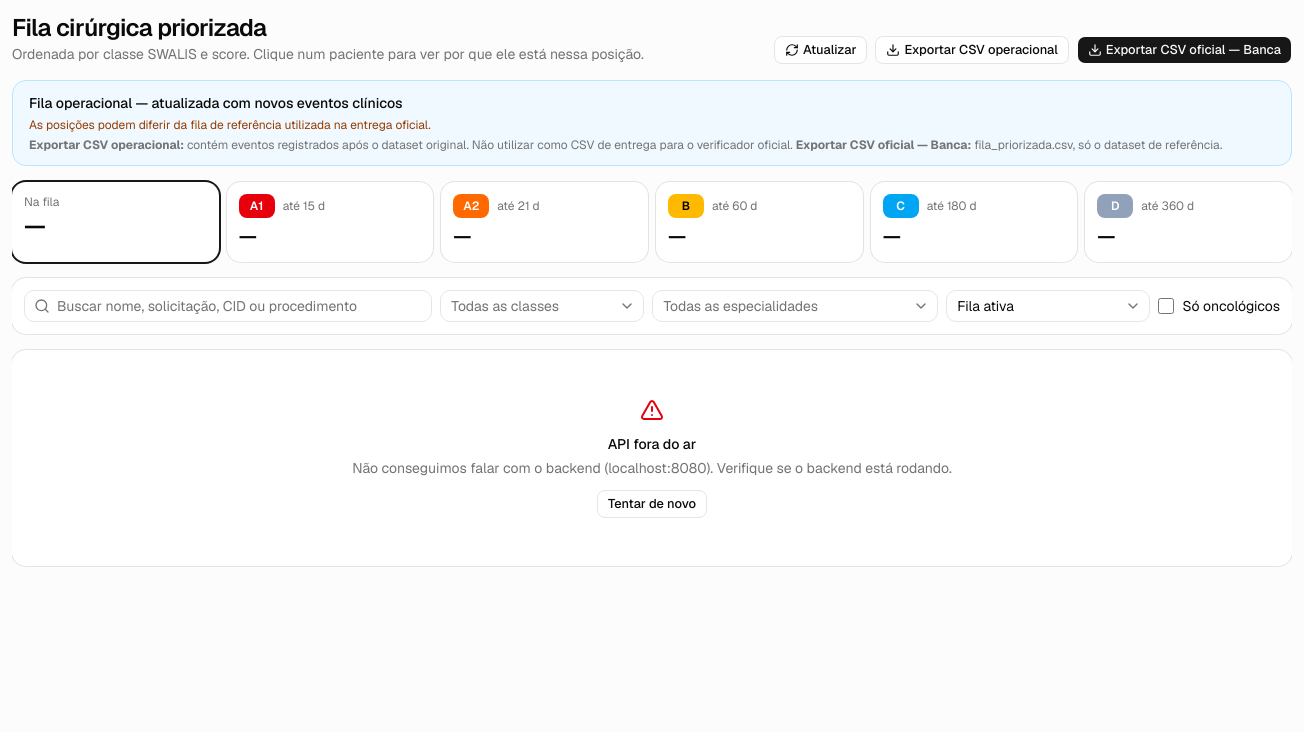
Test case: TelaFila › API fora do ar mostra o aviso e tenta de novo ao clicar
Check: the text "API fora do ar" is shown, box [608,435,696,453]
Click the button "Tentar de novo" at x=652, y=504, box [597,490,707,518]
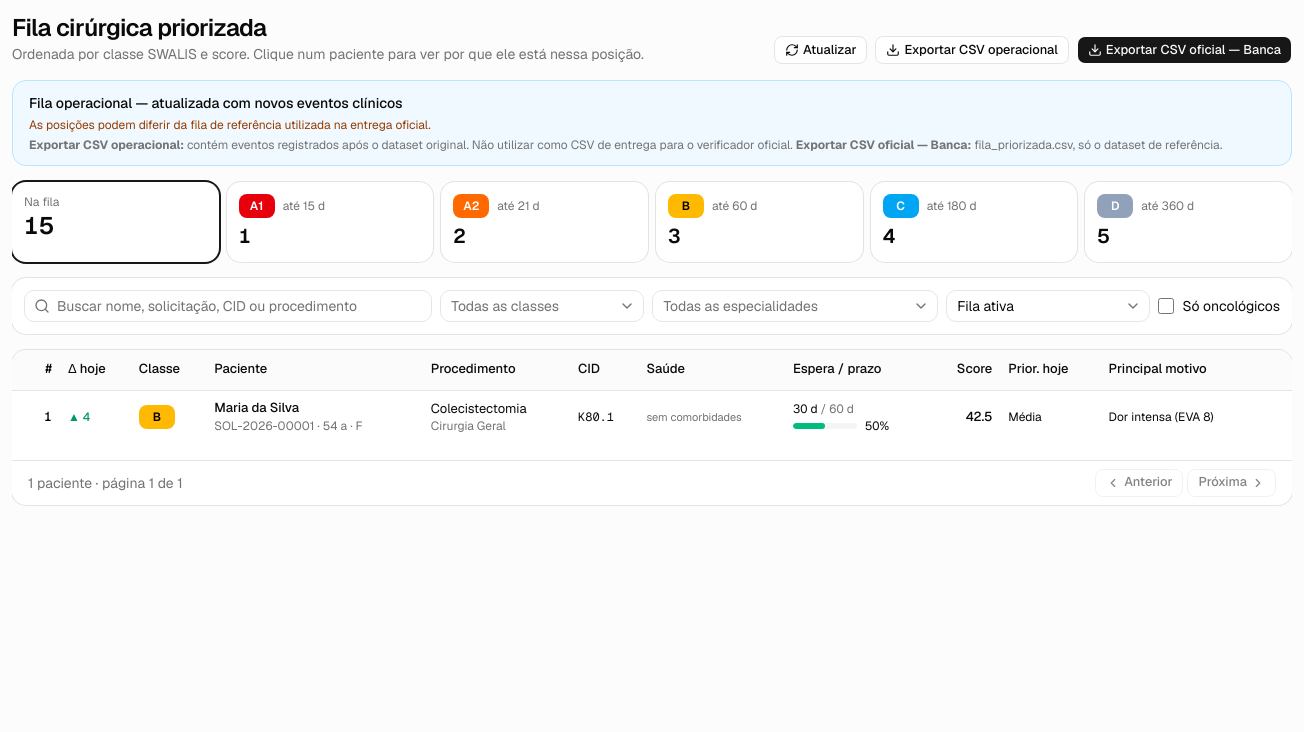
Check: the link "Maria da Silva" is shown, box [214,398,299,416]
Check: the text "API fora do ar" is gone
